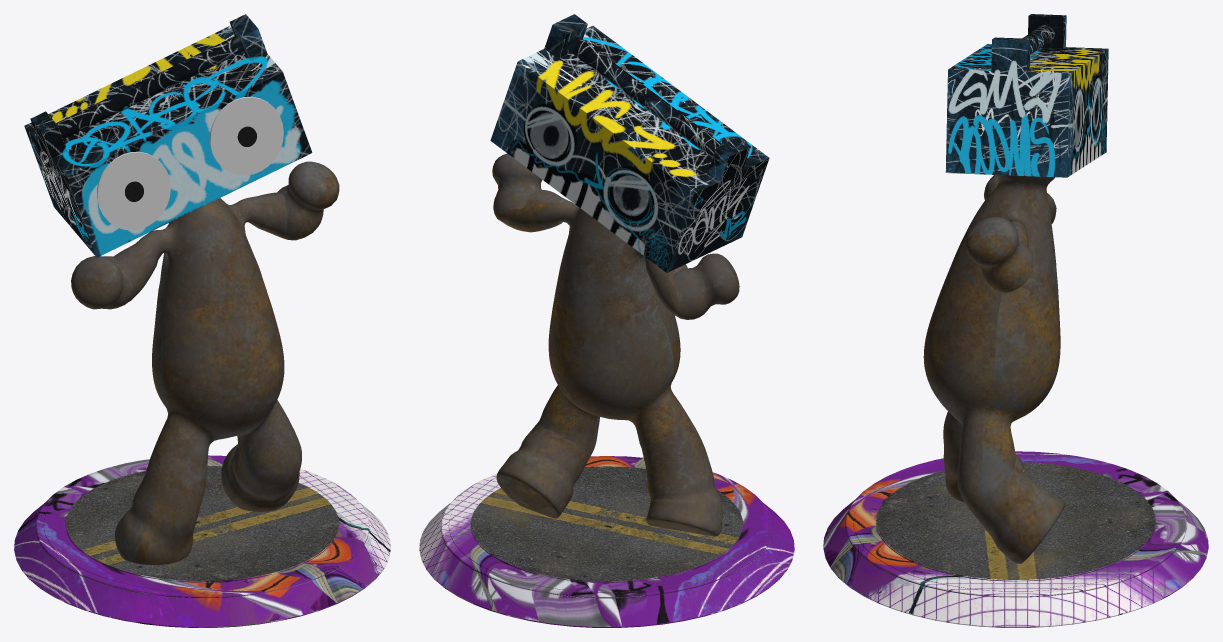
The picture shows the model from 3 angles, left to right: view 1: azimuth 30°, elevation 25°; view 2: azimuth 150°, elevation 25°; view 3: azimuth 270°, elevation 25°; orthographic projection. The views are drawn at different scales.
Visible parts, largest first — view 1: BBody; view 2: BBody; view 3: BBody.
Boxes of the visible parts, x1,y1,x2,y2 form: BBody: [14, 14, 390, 627]; BBody: [419, 14, 794, 627]; BBody: [823, 14, 1208, 627].
Bounding box in the file's own units: 1.45 × 2.2 × 1.45.
6 materials, 4 textured.
